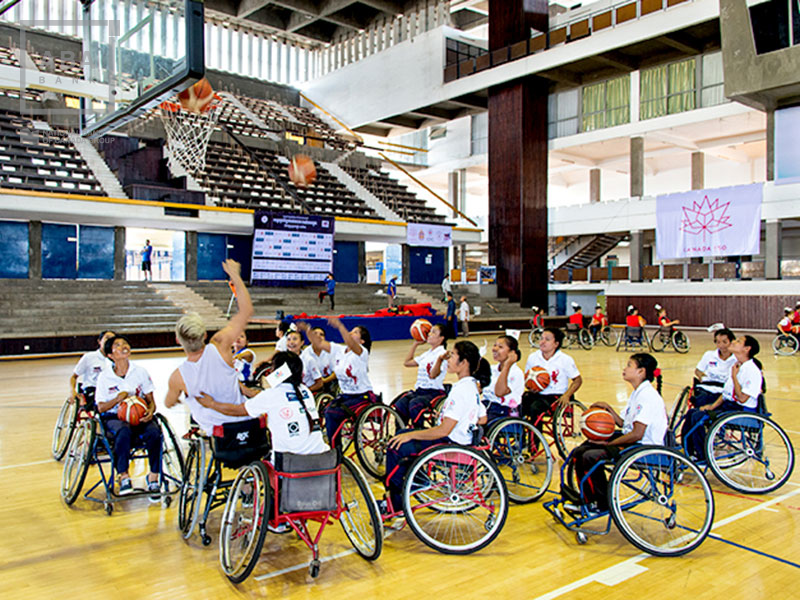ball: (175, 81, 219, 116), (579, 403, 617, 440), (116, 392, 152, 424), (284, 157, 320, 185), (523, 364, 551, 394), (407, 315, 435, 340)
player: (158, 259, 259, 473)
